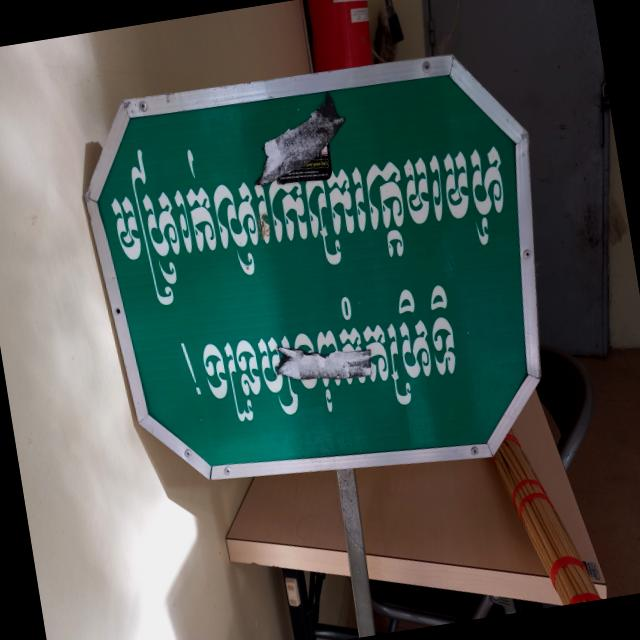Yolov11_80vkh: (104, 112, 514, 313), (189, 280, 463, 429)
